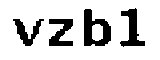1: (117, 6, 147, 52)
b: (80, 3, 114, 48)
v: (10, 17, 45, 48)
z: (48, 16, 76, 49)
